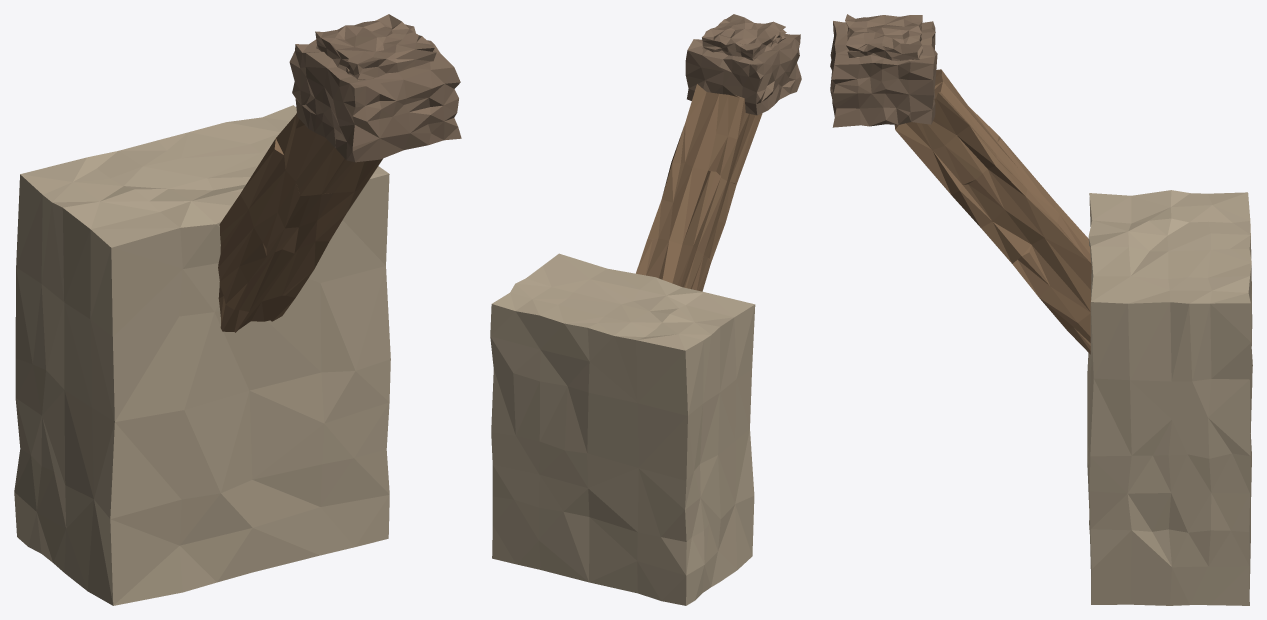
Rendered from SM_Torch.fbx.
The picture shows the model from 3 angles, left to right: view 1: azimuth 30°, elevation 25°; view 2: azimuth 150°, elevation 25°; view 3: azimuth 270°, elevation 25°; orthographic projection. The views are drawn at different scales.
Visible parts, largest first — view 1: SM_Torch; view 2: SM_Torch; view 3: SM_Torch.
Boxes of the visible parts, x1=… form: SM_Torch: x1=14, y1=14, x2=461, y2=605; SM_Torch: x1=490, y1=14, x2=801, y2=605; SM_Torch: x1=830, y1=14, x2=1252, y2=605.
Bounding box in the file's own units: 0.4092 × 0.8688 × 0.6353.
